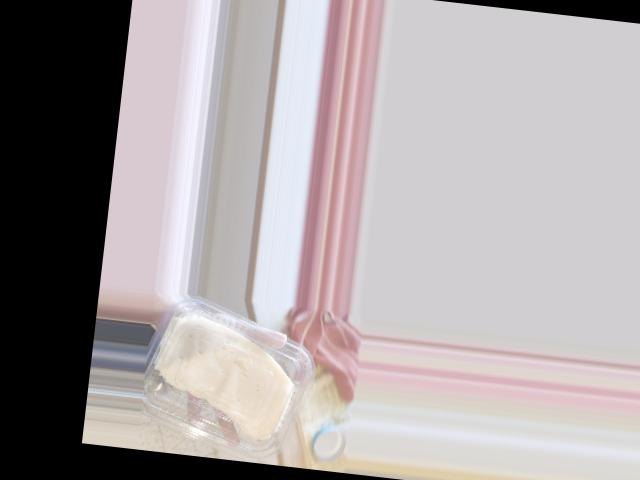cheese: (136, 301, 322, 459)
